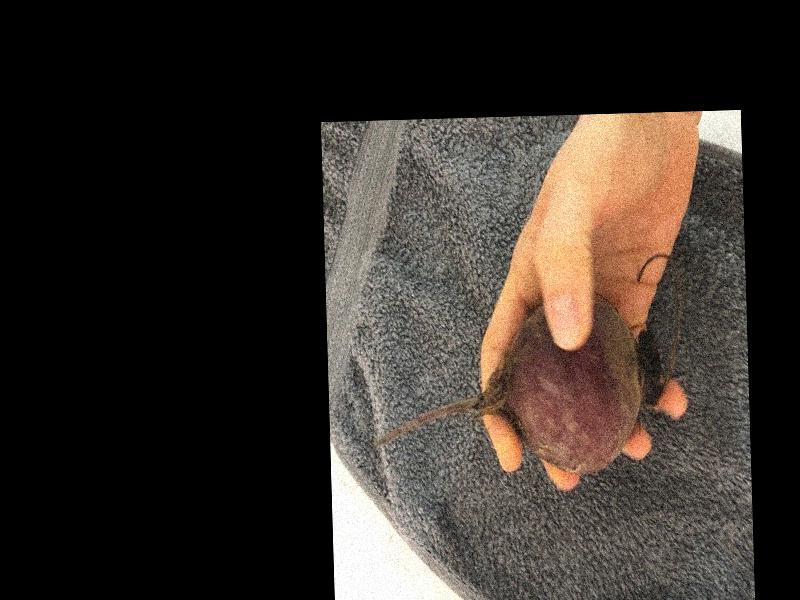Beet: (367, 290, 663, 480)
